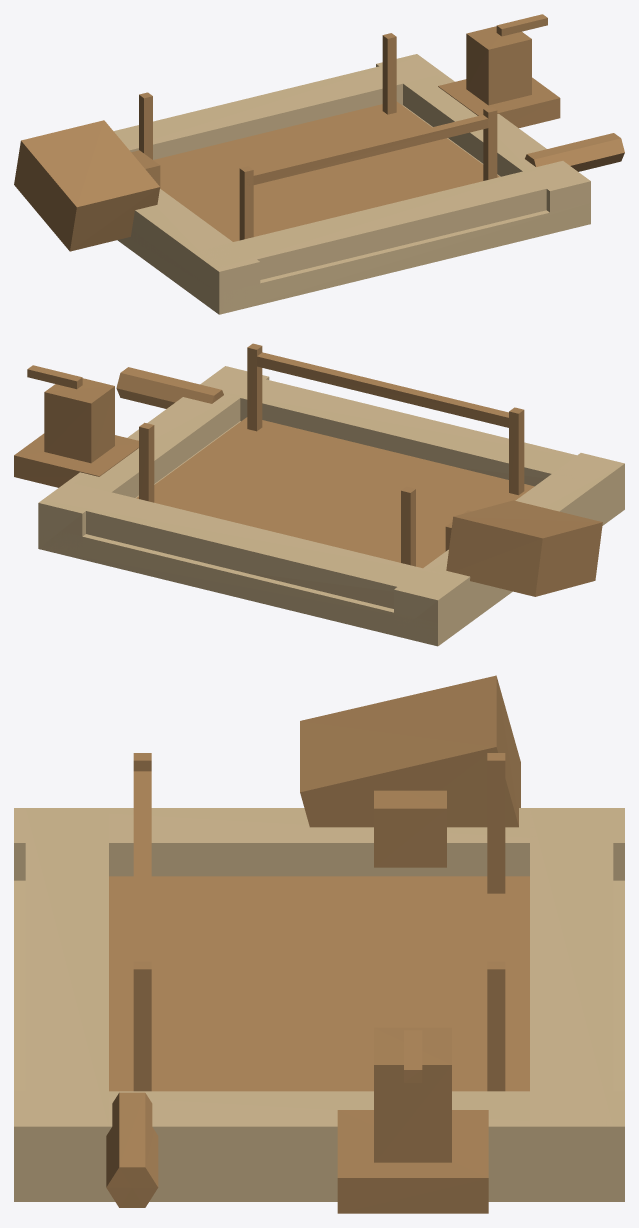
The model's file is Manure-Pit.glb.
The picture shows the model from 3 angles, top to bottom: view 1: azimuth 30°, elevation 25°; view 2: azimuth 150°, elevation 25°; view 3: azimuth 270°, elevation 25°; orthographic projection. The views are drawn at different scales.
Visible parts, largest first — view 1: wind-pump-static-manure-pit-reinforced-concrete, wind-pump-static-manure-pit-dark-contained-interior, wind-pump-static-manure-pit-inlet-cover, wind-pump-static-manure-pit-dark-guard-rail, wind-pump-static-manure-pit-service-box; view 2: wind-pump-static-manure-pit-reinforced-concrete, wind-pump-static-manure-pit-dark-contained-interior, wind-pump-static-manure-pit-dark-guard-rail, wind-pump-static-manure-pit-inlet-cover, wind-pump-static-manure-pit-service-box; view 3: wind-pump-static-manure-pit-reinforced-concrete, wind-pump-static-manure-pit-dark-contained-interior, wind-pump-static-manure-pit-inlet-cover, wind-pump-static-manure-pit-dark-guard-rail, wind-pump-static-manure-pit-service-box.
Part boxes in pixels (x1,y1,x2,y2): wind-pump-static-manure-pit-reinforced-concrete: [113, 54, 590, 314]; wind-pump-static-manure-pit-dark-contained-interior: [153, 101, 499, 241]; wind-pump-static-manure-pit-inlet-cover: [14, 120, 159, 251]; wind-pump-static-manure-pit-dark-guard-rail: [131, 14, 624, 240]; wind-pump-static-manure-pit-service-box: [438, 26, 560, 127]; wind-pump-static-manure-pit-reinforced-concrete: [38, 366, 624, 646]; wind-pump-static-manure-pit-dark-contained-interior: [136, 417, 534, 568]; wind-pump-static-manure-pit-dark-guard-rail: [27, 343, 524, 566]; wind-pump-static-manure-pit-inlet-cover: [446, 500, 602, 596]; wind-pump-static-manure-pit-service-box: [14, 378, 138, 487]; wind-pump-static-manure-pit-reinforced-concrete: [14, 808, 624, 1201]; wind-pump-static-manure-pit-dark-contained-interior: [109, 876, 529, 1091]; wind-pump-static-manure-pit-inlet-cover: [300, 675, 520, 827]; wind-pump-static-manure-pit-dark-guard-rail: [106, 753, 505, 1207]; wind-pump-static-manure-pit-service-box: [337, 1027, 488, 1213].
Bounding box in the file's own units: 3.9 × 0.8075 × 2.35.
